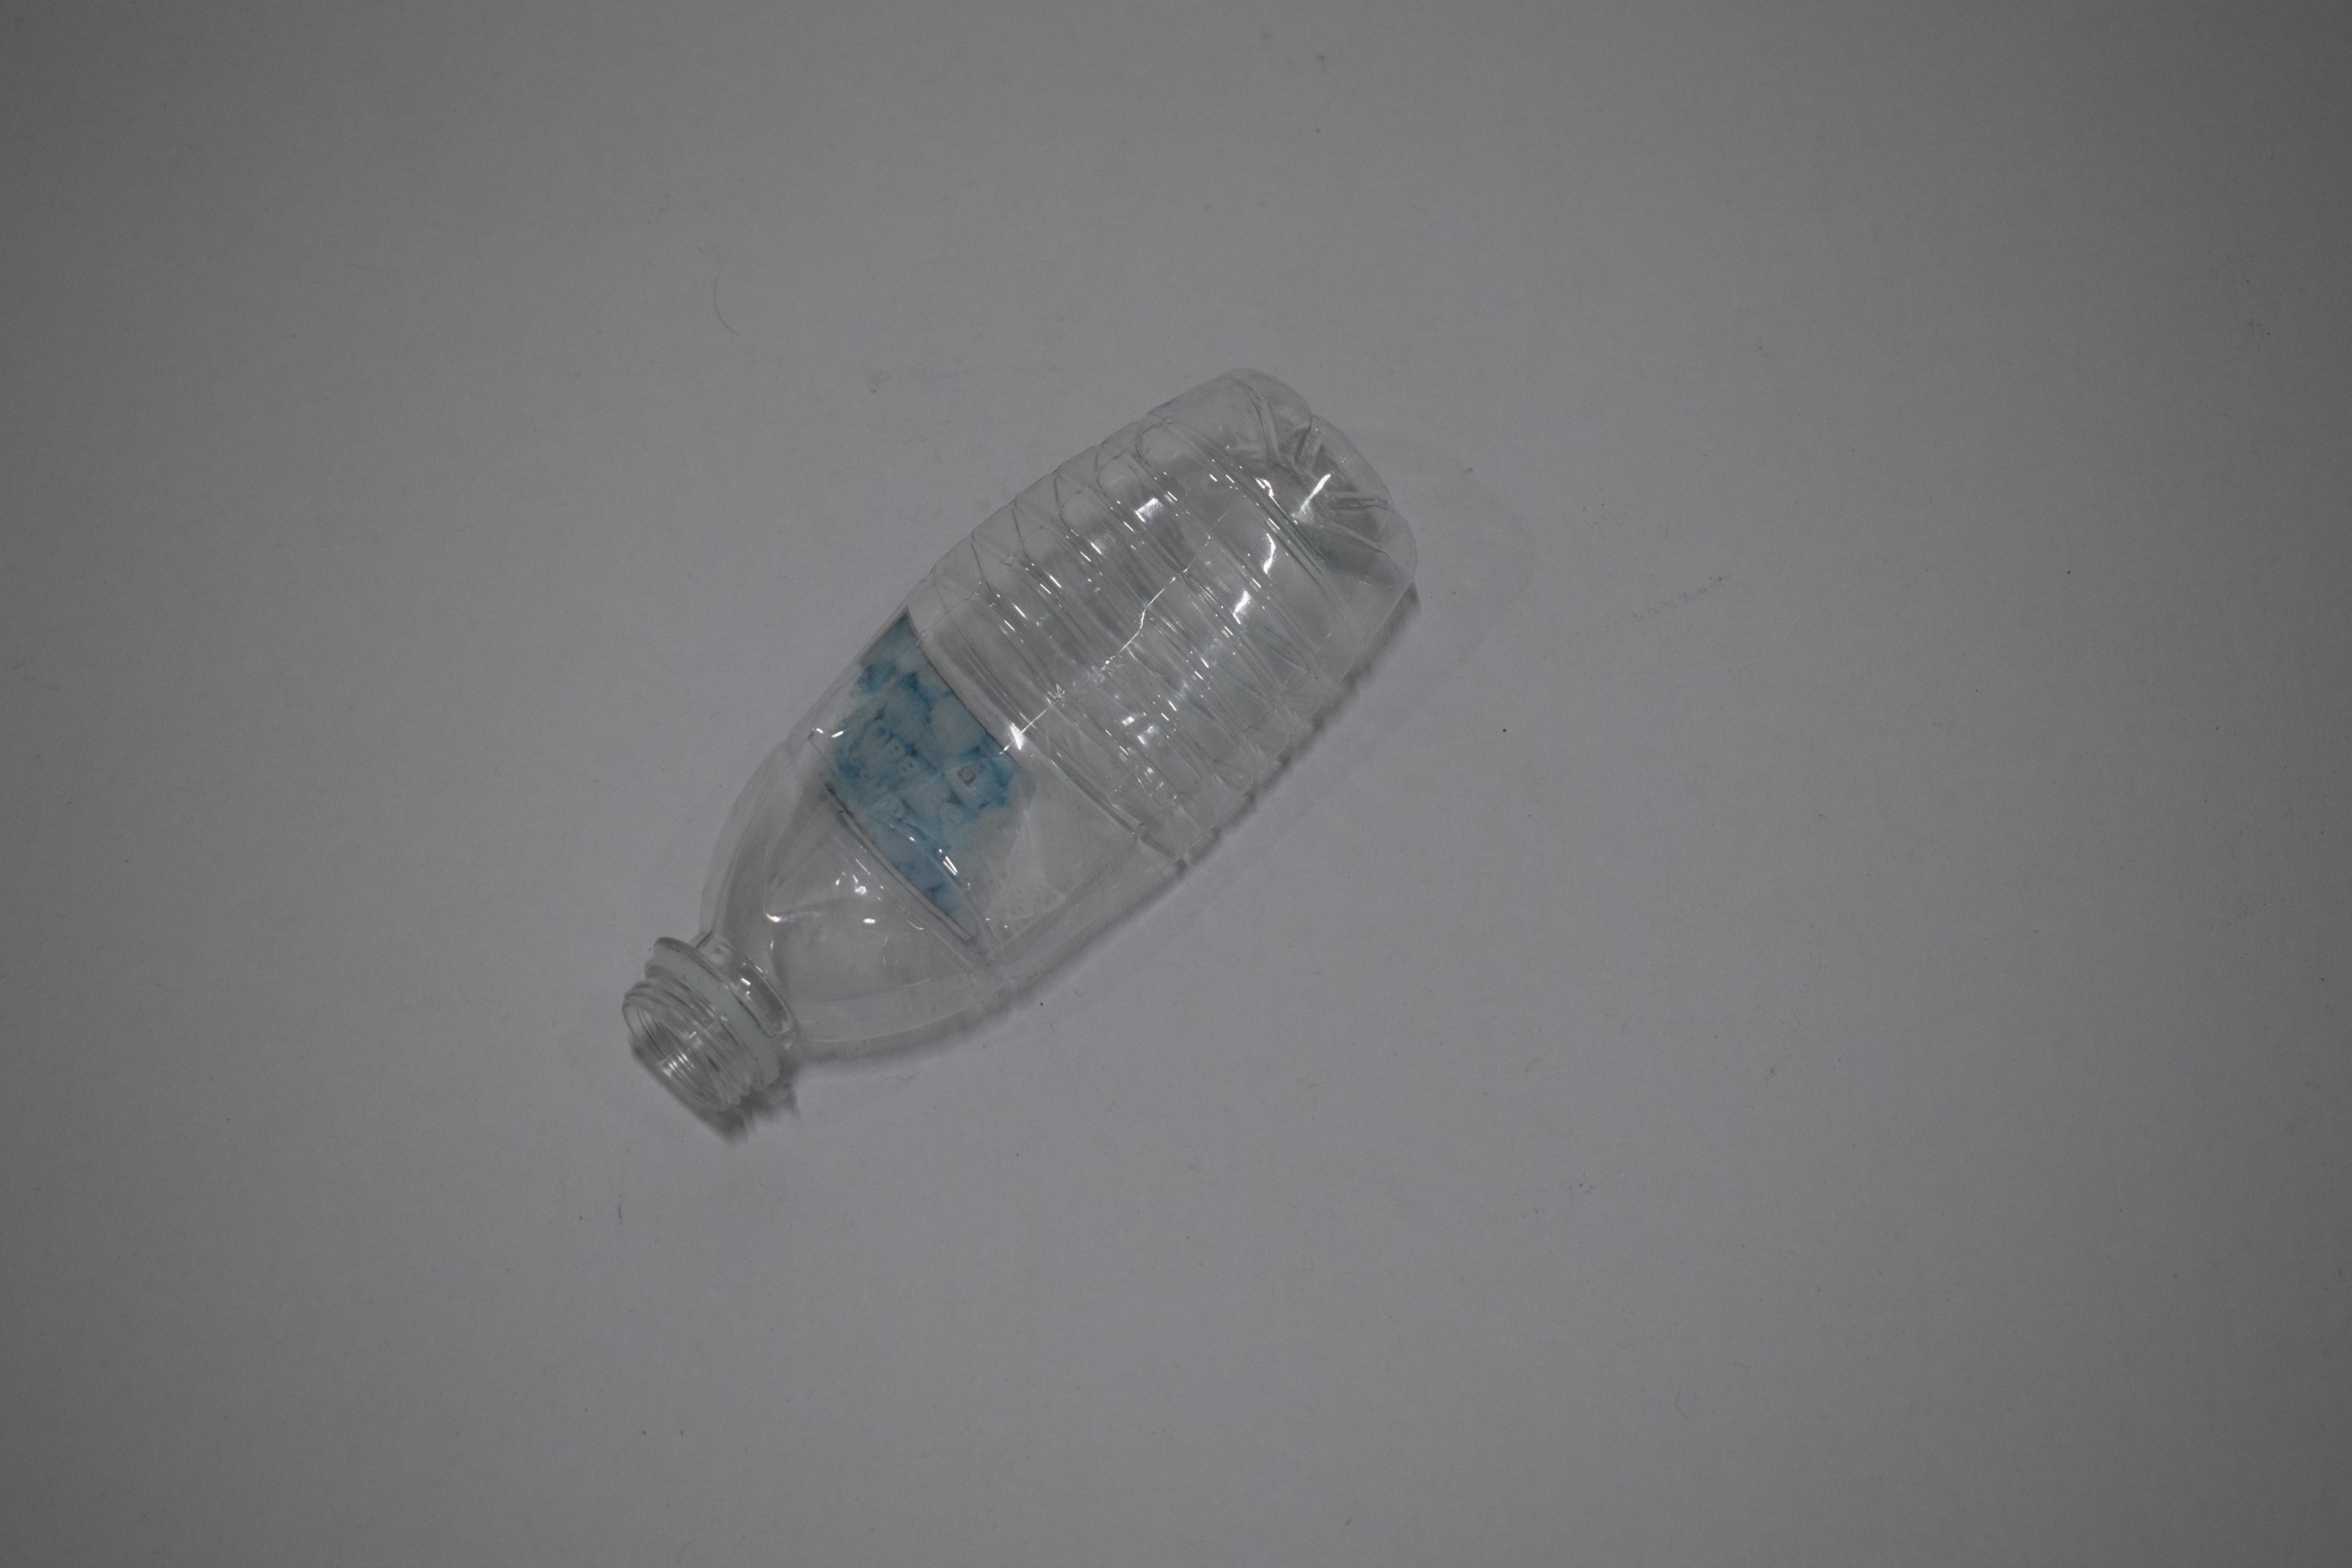bottle: (614, 752, 1414, 756)
